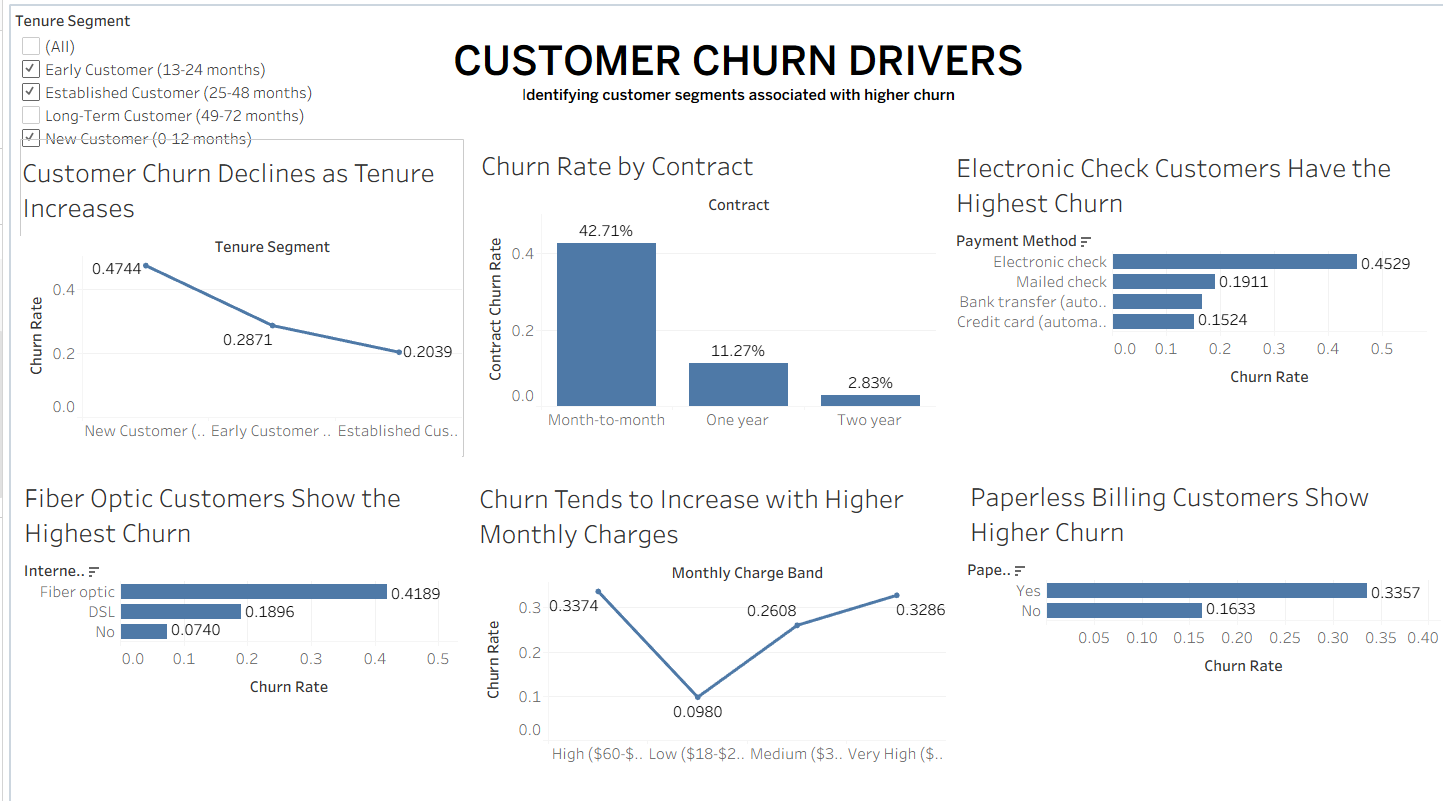

This screenshot's page, from the dashboard's own definition file:
{"tool":"tableau","page":{"name":"Customer Churn Drivers","canvas":[1000,1000],"units":"permille","ordinal":0},"visuals":[{"type":"filter","title":"Customer Churn Declines as Tenure Increases","param":"[federated.0650cz81bnt2fw1adgndd0ub6g10].[none:Calculation_1101974561201881091:n","box":[5.5,9.8,989,186]},{"type":"text","box":[20,13.6,974.5,151.5]},{"type":"worksheet","title":"Churn Rate by Contract","mark":"Bar","rows":["Calculation_1101974561073770498"],"cols":["Contract"],"box":[324.1,174.9,322.1,381.8]},{"type":"worksheet","title":"Electronic Check Customers Have the Highest Churn","mark":"Automatic","rows":["PaymentMethod"],"cols":["Calculation_1101974561061937152"],"box":[651.7,177.3,333.1,342.4]},{"type":"worksheet","title":"Customer Churn Declines as Tenure Increases","mark":"Line","rows":["Calculation_1101974561061937152"],"cols":["Calculation_1101974561201881091"],"box":[10.3,188.4,306.2,376.9]},{"type":"worksheet","title":"Paperless Billing Customers Show Higher Churn","mark":"Automatic","rows":["PaperlessBilling"],"cols":["Calculation_1101974561061937152"],"box":[661.4,582.5,333.1,346.1]},{"type":"worksheet","title":"Fiber Optic Customers Show the Highest Churn","mark":"Automatic","rows":["InternetService"],"cols":["Calculation_1101974561061937152"],"box":[9,583.7,307.6,344.8]},{"type":"worksheet","title":"Churn Tends to Increase with Higher Monthly Charges","mark":"Line","rows":["Calculation_1101974561061937152"],"cols":["Calculation_1101974561206939654"],"box":[322.8,585,330.3,383]}]}

Visuals, with their boxes on the dashboard's canvas, which has no fixed pixel size, in thousandths of its width and height (x1, y1, x2, y2). These are canvas units, not pixel positions in the 1443x801 screenshot, which may show the page scaled, cropped or inside an application window:
"Customer Churn Declines as Tenure Increases" filter: 6:10:994:196
text: 20:14:994:165
"Churn Rate by Contract" worksheet (Bar marks): 324:175:646:557
"Electronic Check Customers Have the Highest Churn" worksheet: 652:177:985:520
"Customer Churn Declines as Tenure Increases" worksheet (Line marks): 10:188:316:565
"Paperless Billing Customers Show Higher Churn" worksheet: 661:582:994:929
"Fiber Optic Customers Show the Highest Churn" worksheet: 9:584:317:928
"Churn Tends to Increase with Higher Monthly Charges" worksheet (Line marks): 323:585:653:968
